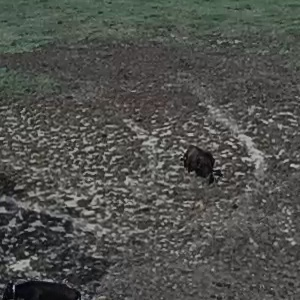cow: (169, 137, 225, 192)
